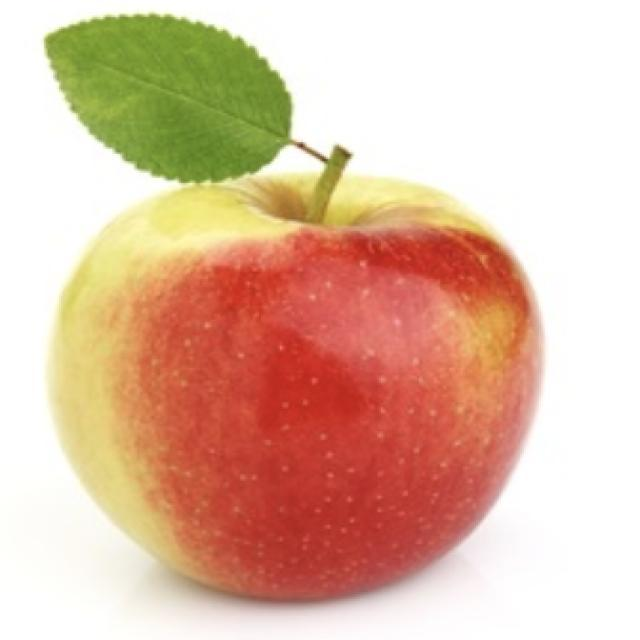Apple: (44, 147, 544, 603)
